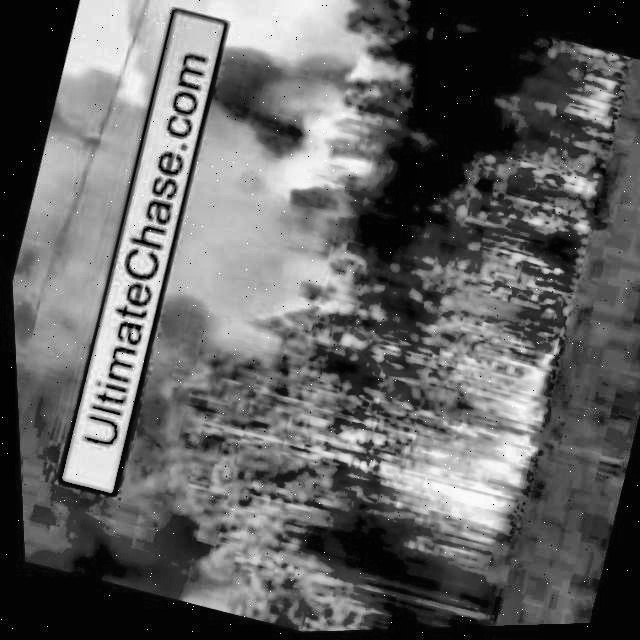Fire: (0, 0, 209, 565), (131, 0, 415, 406), (366, 327, 556, 542), (558, 66, 624, 133), (551, 162, 598, 207)
